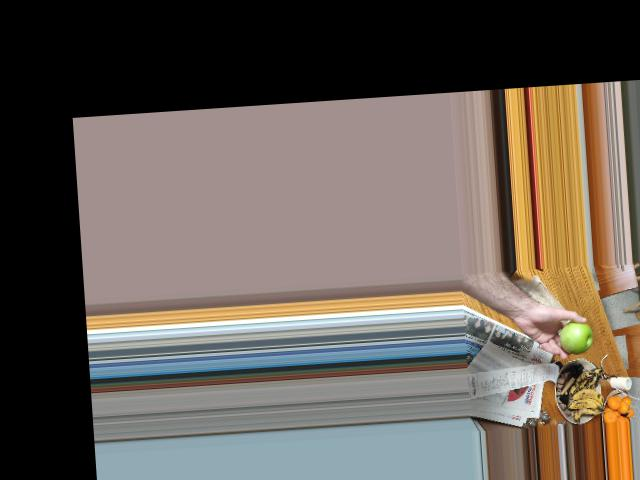apple: (559, 319, 593, 351)
